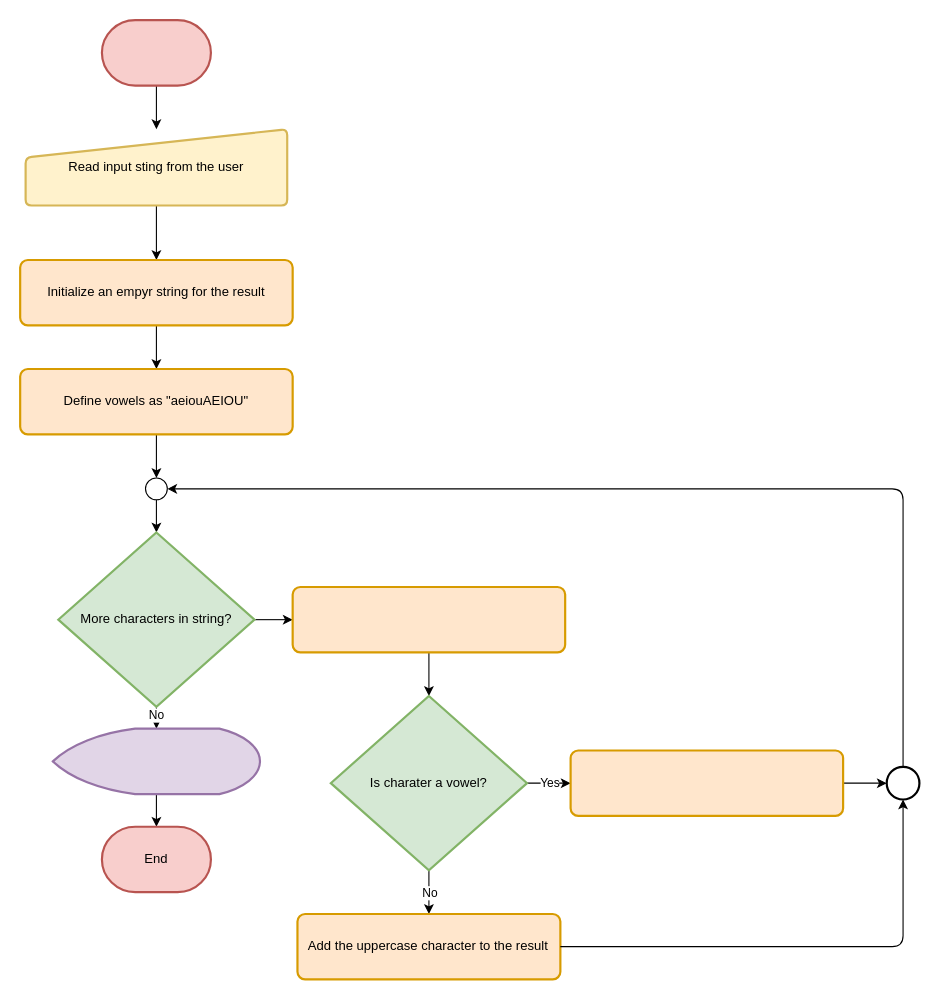
This 938x998 diagram has some shape labels left out. Each missing label, with the centre of its shape:
"Add an asterisk to the result" goes at point 706,782.
"Convert charcter to uppercase" goes at point 428,619.
"Print the modified string" goes at point 156,761.
"Start" goes at point 155,52.
